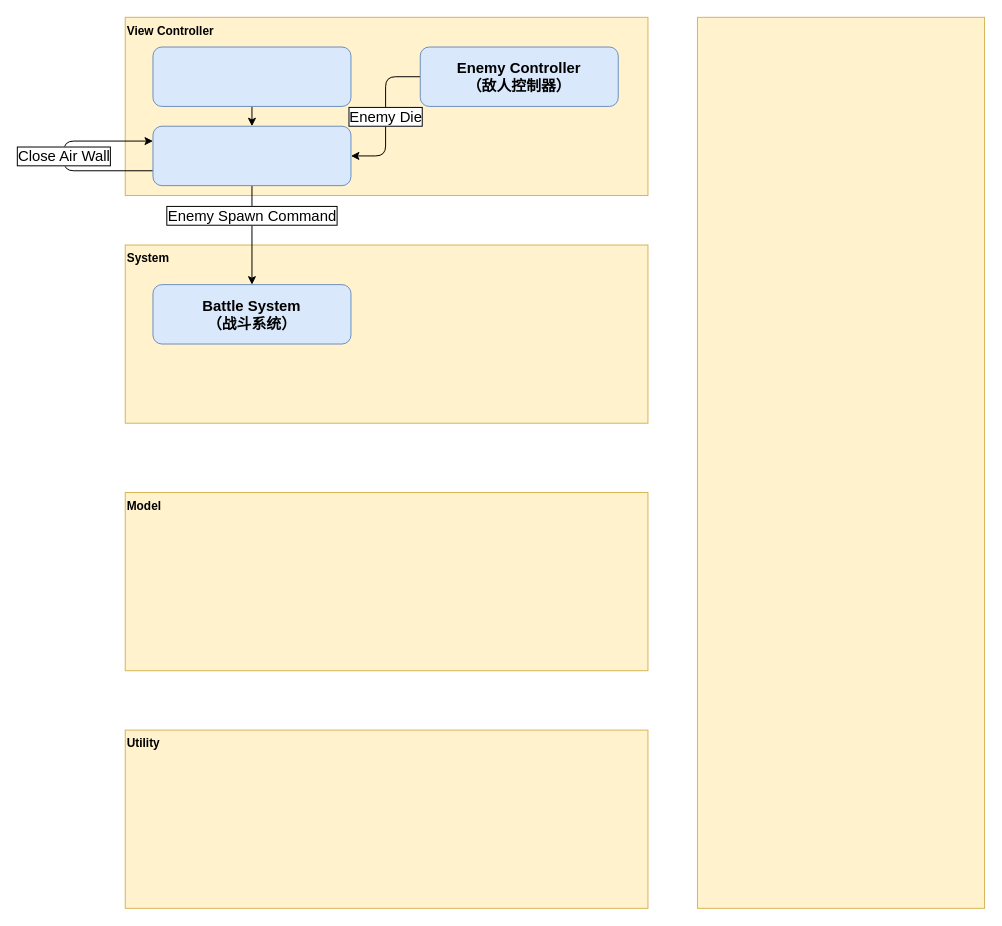
This 1002x926 diagram has some shape labels left out. The centre of each missing label's shape, as x and y in pixels:
"Battlefield Controller （关卡逻辑控制器）" belongs at (x=251, y=155).
"Battlefield Trigger （关卡逻辑触发器）" belongs at (x=251, y=76).
"Event" belongs at (x=840, y=462).
